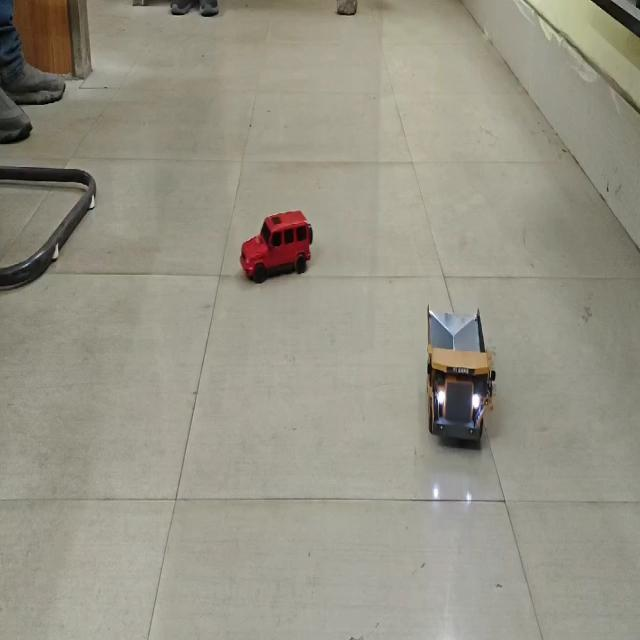dump_truck: (418, 291, 494, 451)
light_vehicle: (230, 210, 316, 277)
